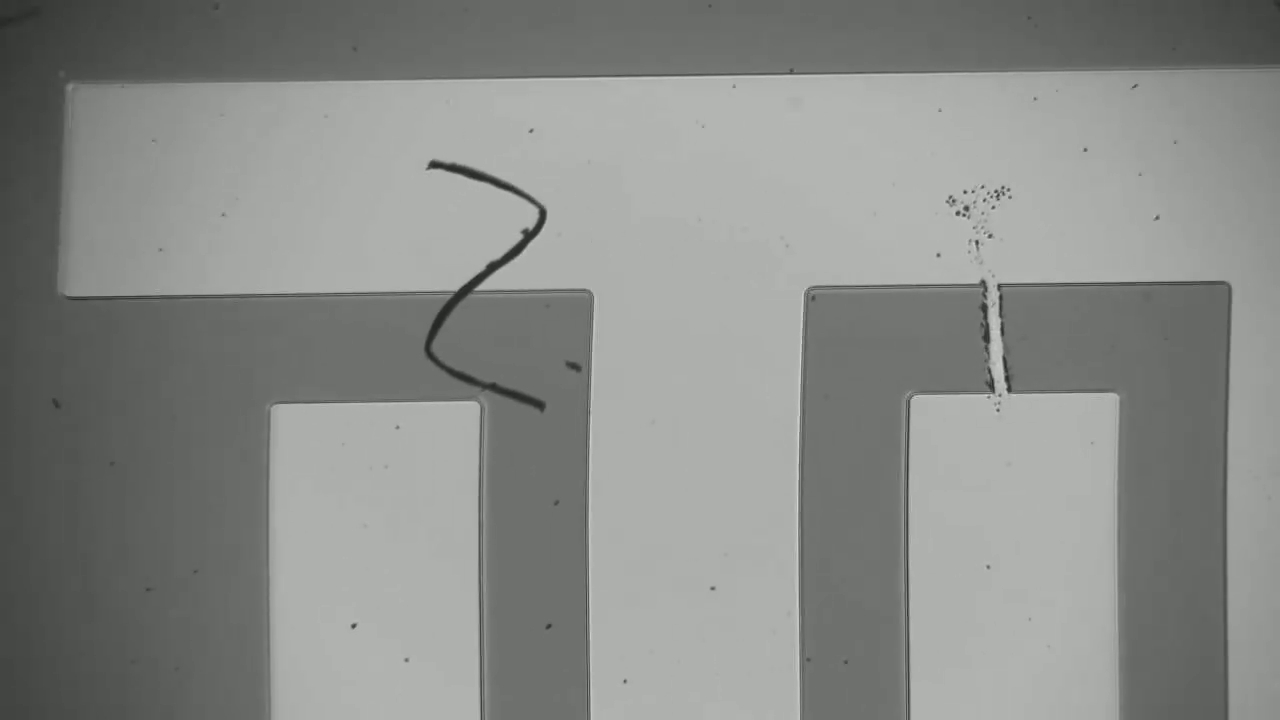Short_circuit: (960, 258, 1033, 417)
